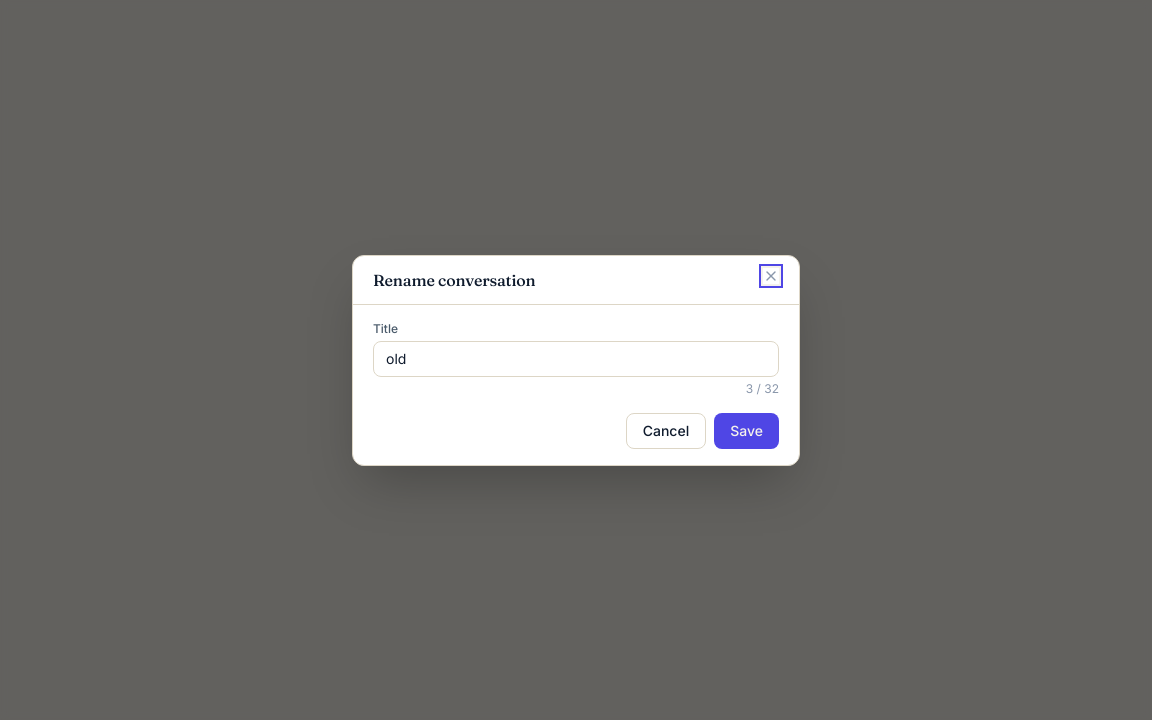
Test case: EditTitleDialog › 500: inline alert renders and dialog stays open
The image size is (1152, 720).
Replace the text in the field labelled "Title" with "new" at (576, 358), box [373,340,779,376]
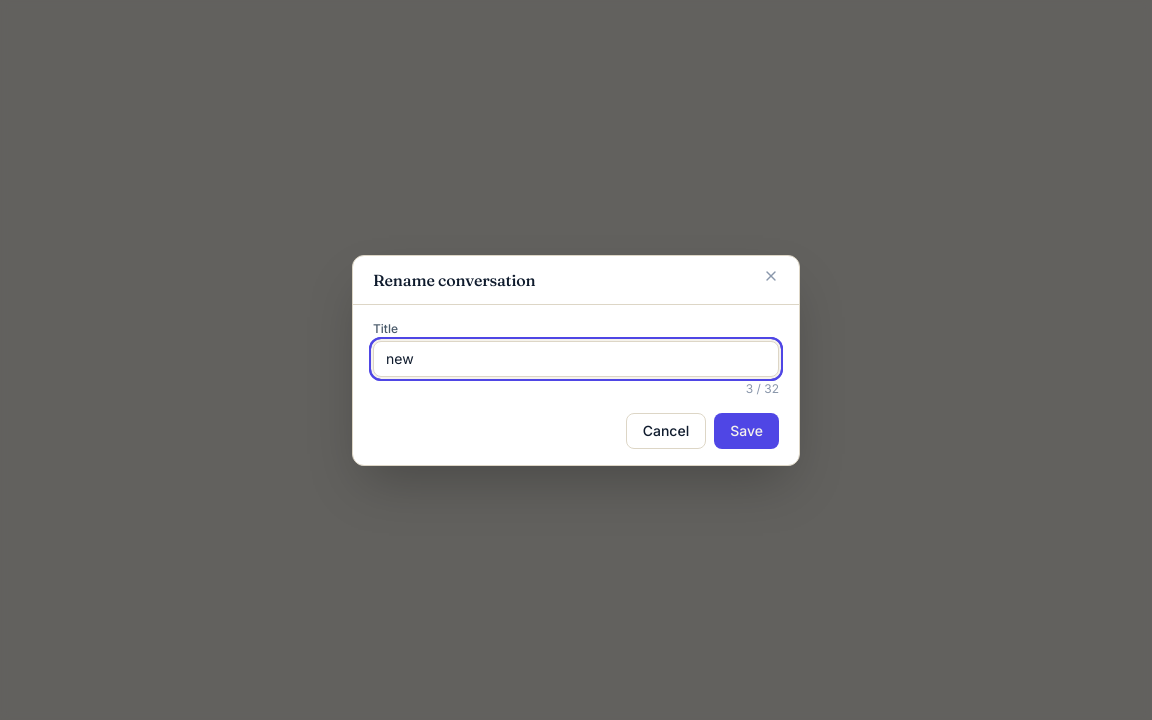
Click the button "Save".
click(747, 430)  # box [714,412,779,448]
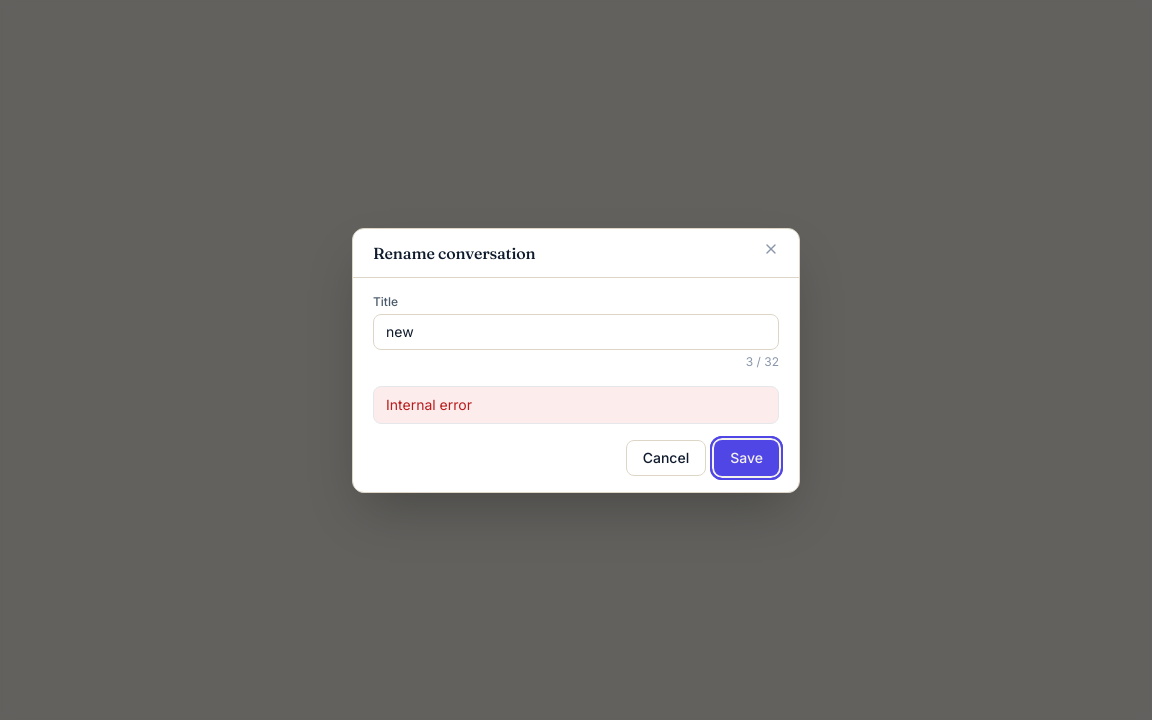
Check: the message "Internal error" is shown, box [373,386,779,424]
